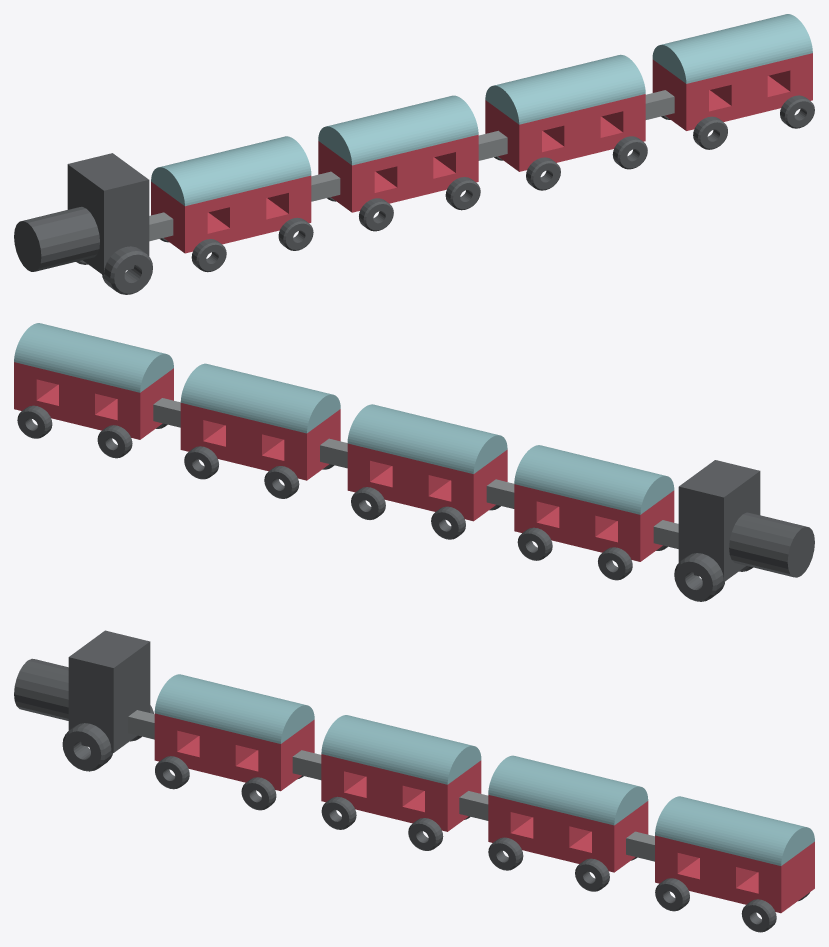
The model's file is pro-150_Train.glb.
3 views of the same model, one above another, from view 1: azimuth 30°, elevation 25°; view 2: azimuth 150°, elevation 25°; view 3: azimuth 330°, elevation 25° (orthographic).
Visible parts, largest first — view 1: Mesh_Mesh_head_geo.001_lambert2SG.001; view 2: Mesh_Mesh_head_geo.001_lambert2SG.001; view 3: Mesh_Mesh_head_geo.001_lambert2SG.001.
Part boxes in pixels (left/top/right/bottom): Mesh_Mesh_head_geo.001_lambert2SG.001: left=14, top=14, right=814, bottom=294; Mesh_Mesh_head_geo.001_lambert2SG.001: left=14, top=323, right=814, bottom=601; Mesh_Mesh_head_geo.001_lambert2SG.001: left=14, top=630, right=814, bottom=932.
Bounding box in the file's own units: 341 × 44.11 × 40.5.
